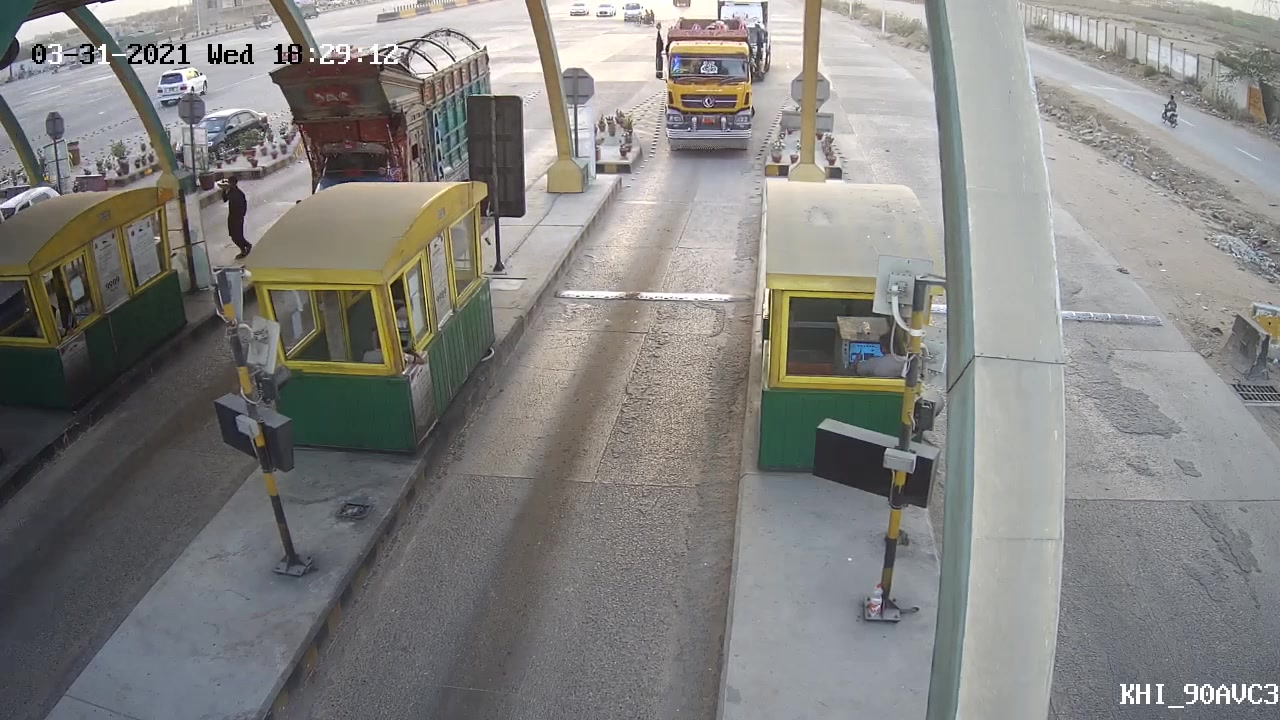F6: (654, 6, 770, 160)
